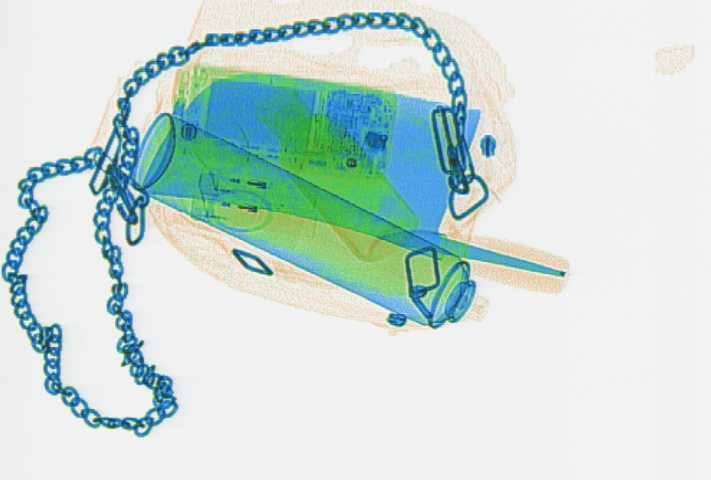knife: (141, 70, 569, 294)
lighter: (186, 192, 318, 239), (189, 172, 321, 204)
pressure: (132, 112, 491, 330)
